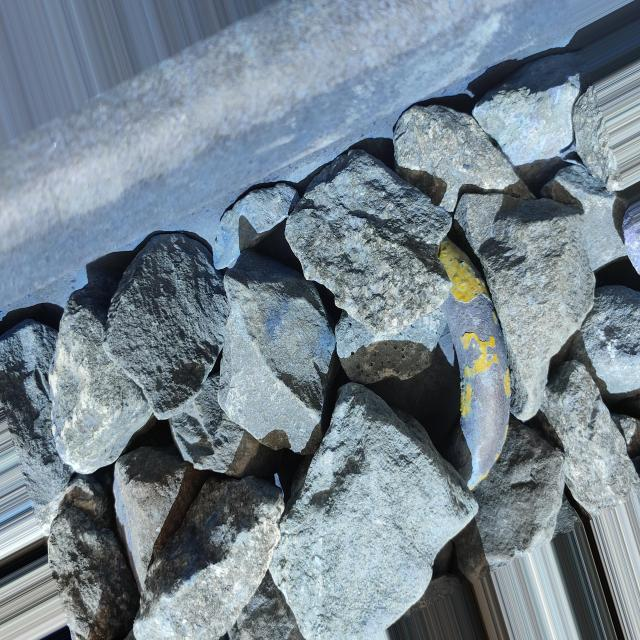Good Fasteners: (214, 133, 602, 580)
